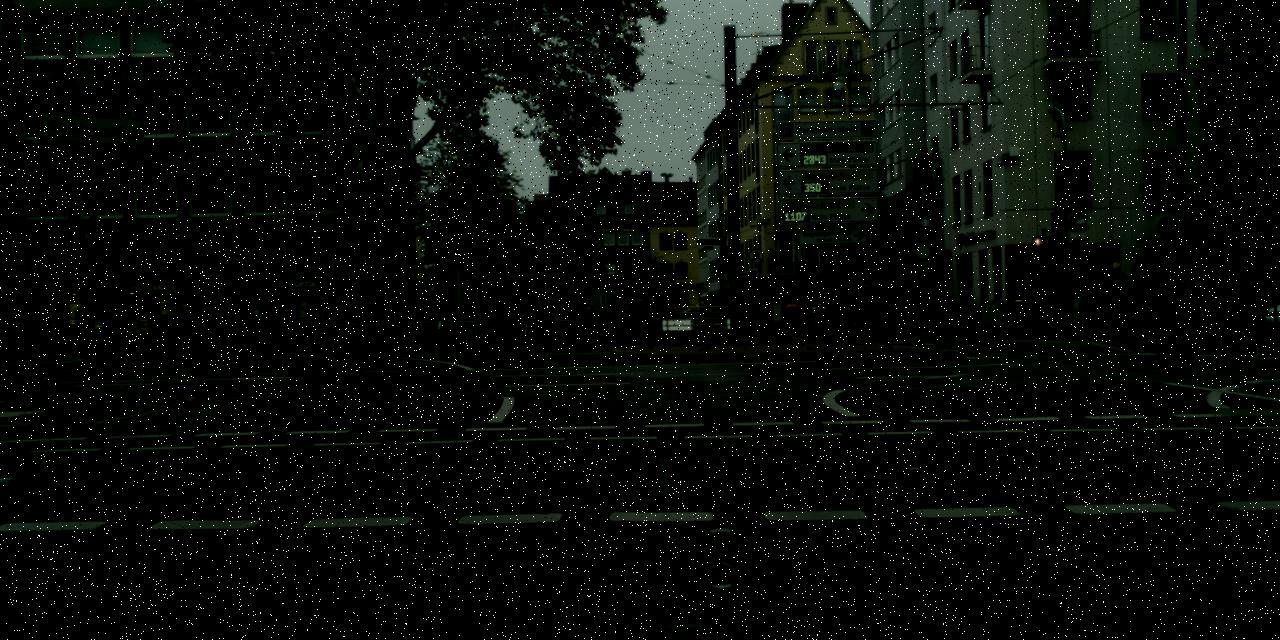ped: (1206, 252, 1239, 331), (1158, 259, 1188, 334), (1101, 262, 1131, 336), (1008, 275, 1033, 338), (247, 303, 266, 350), (951, 290, 970, 336), (1034, 286, 1052, 332), (612, 296, 660, 313), (242, 306, 260, 351), (699, 297, 717, 342), (424, 302, 440, 344), (360, 301, 376, 342), (348, 301, 364, 342), (962, 293, 978, 334), (300, 304, 316, 345), (418, 302, 433, 342), (580, 299, 594, 334), (737, 302, 751, 336), (783, 302, 796, 336), (661, 301, 673, 331), (861, 302, 872, 330), (882, 302, 892, 331)
